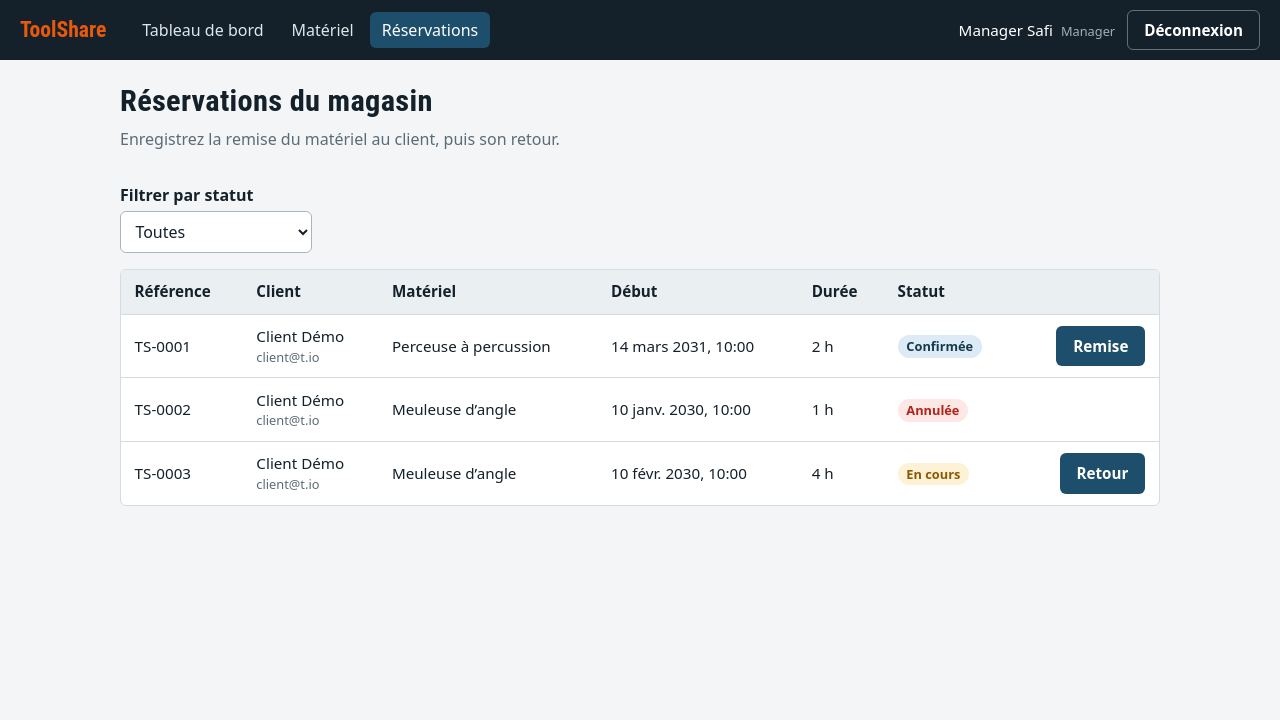
Test: handover and return › registers a handover, then the return
expect the text "Confirmée" is shown: met, box [898, 335, 982, 358]
Click the button with aria-label "Enregistrer la remise de TS-0001". click: (1101, 346)
box: [1056, 326, 1145, 366]
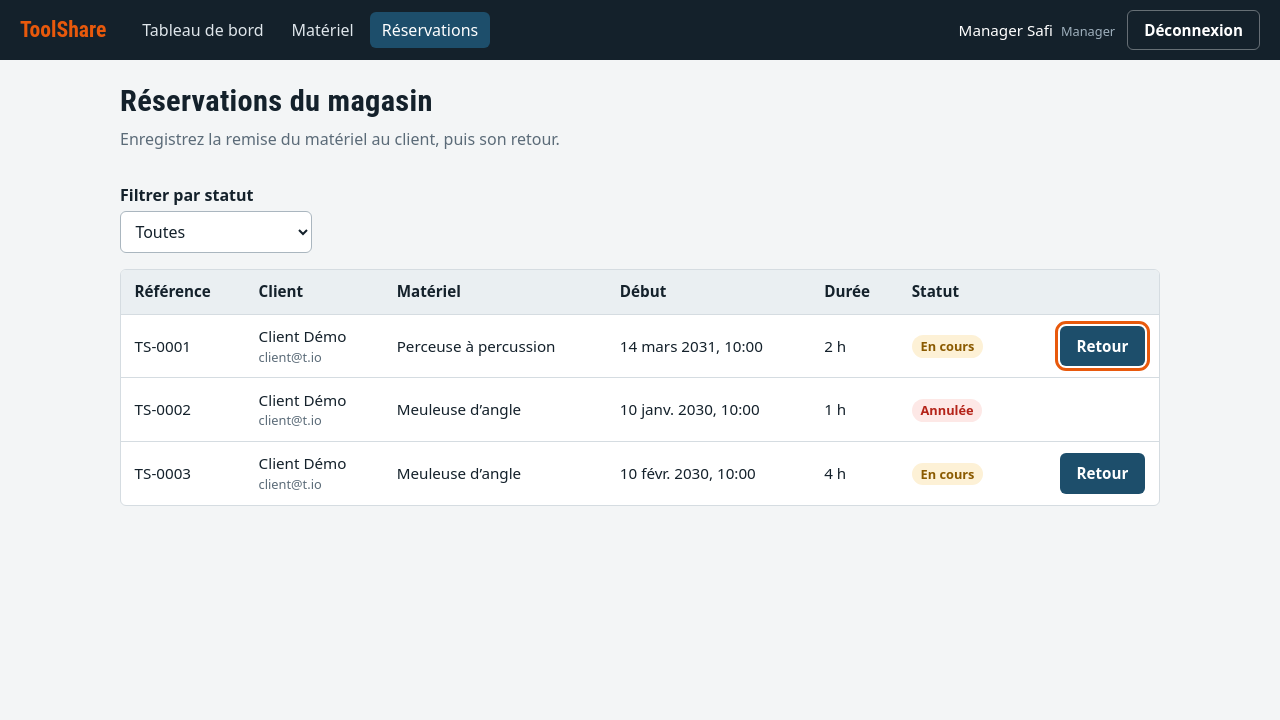
expect the text "En cours" in the row of "TS-0001" is shown: met, box [920, 337, 974, 355]
Click the button with aria-label "Enregistrer le retour de TS-0001". click: (1102, 346)
box: [1060, 326, 1145, 366]
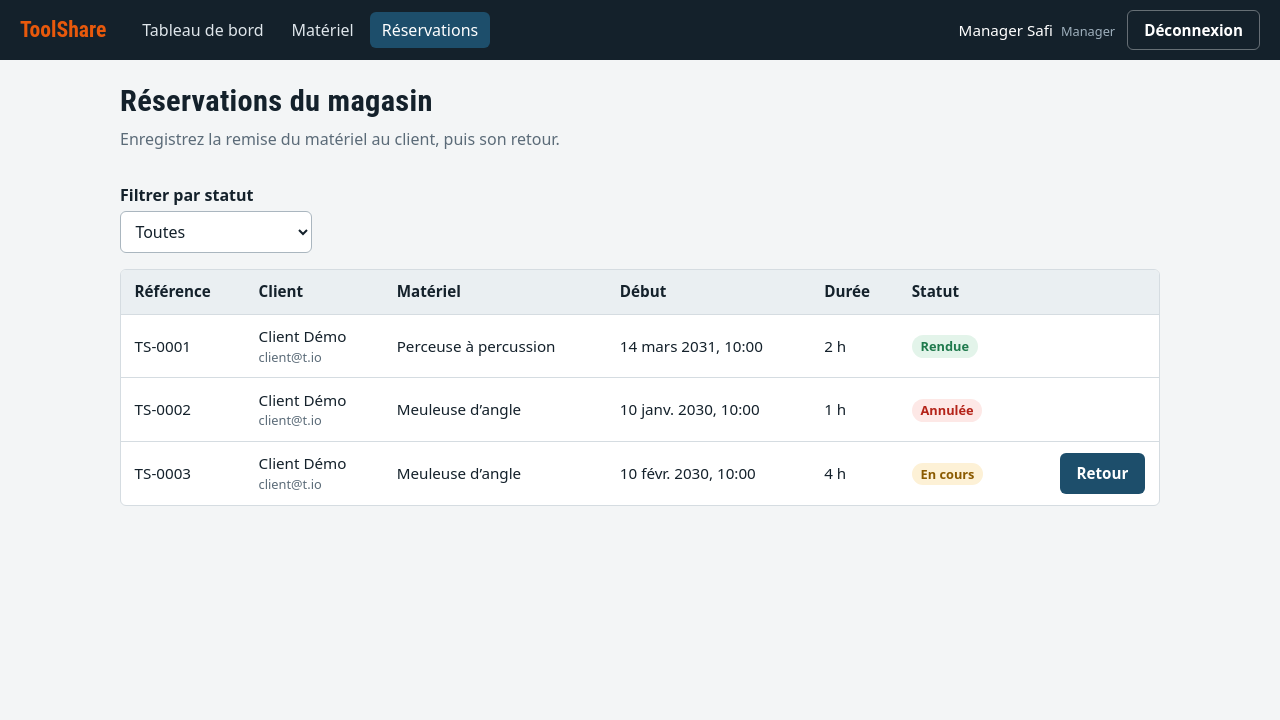
expect the text "Rendue" is shown: met, box [912, 335, 978, 358]
